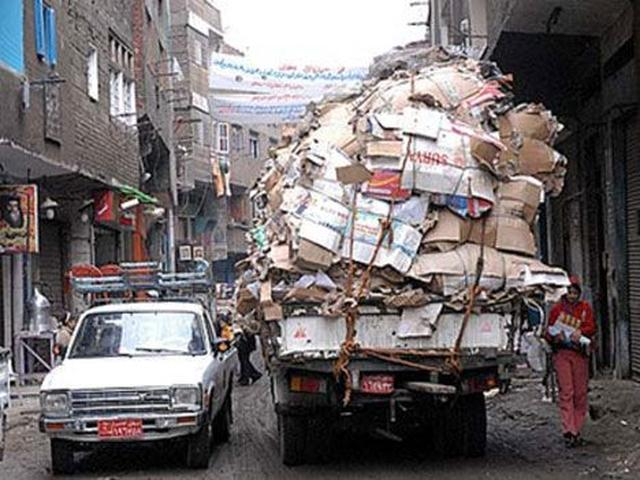garbage: (272, 104, 549, 309)
